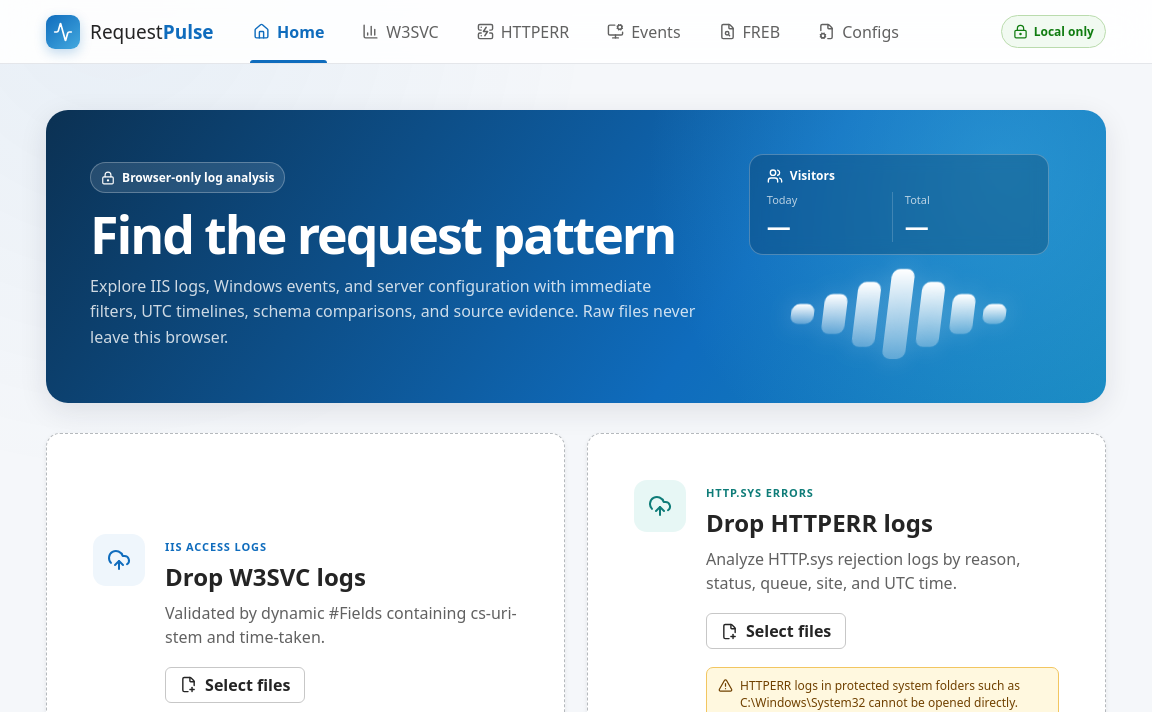
Test: App navigation and file processing state › shows synthetic FREB evidence until FREB files are uploaded
Step 1. Click the button "FREB" → point(749, 32), box [702,0,797,63]
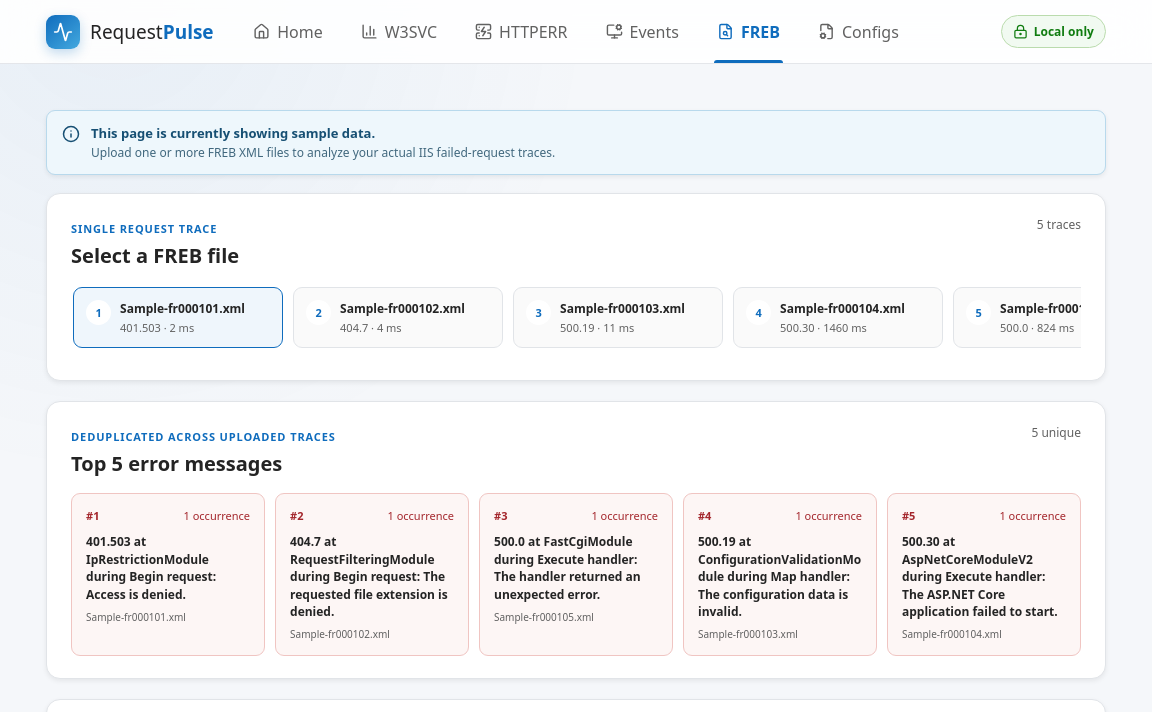
Now the text "Upload one or more FREB XML files to analyze your actual IIS failed-request traces." is shown, box [91,144,555,161]
